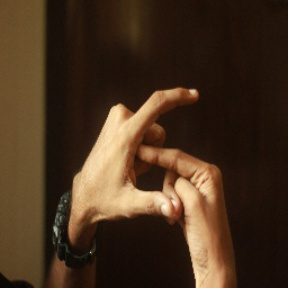E: (110, 78, 229, 224)
